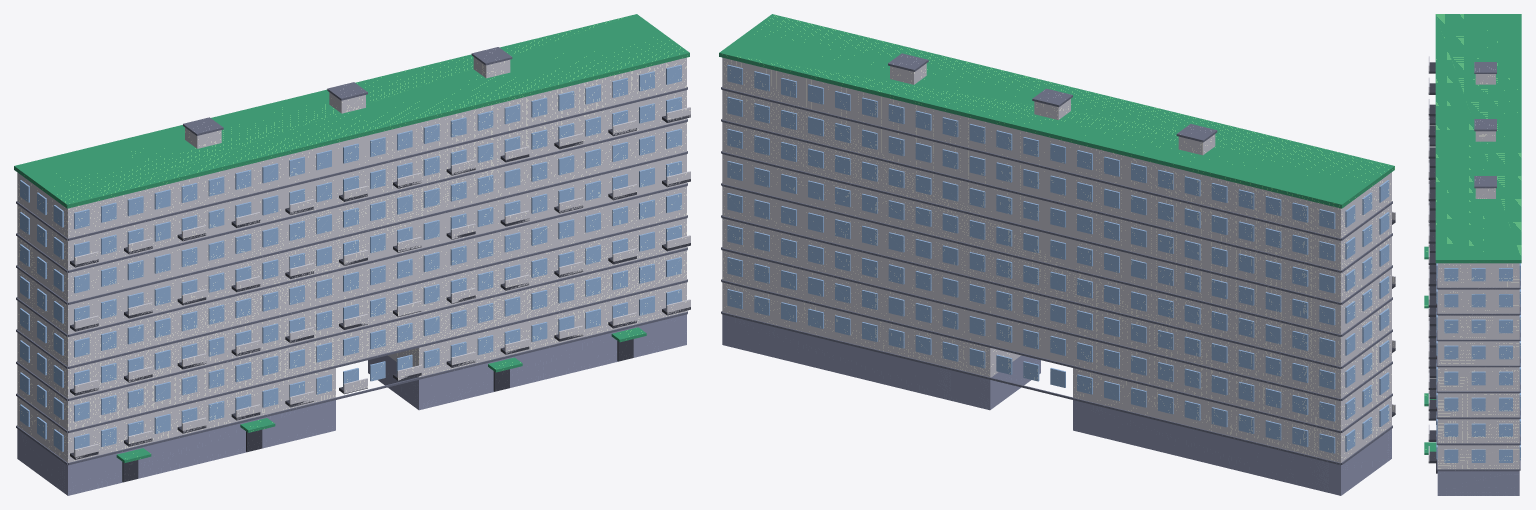
File: panel-5x1-l2.glb
3 views of the same model, side by side, from view 1: azimuth 30°, elevation 25°; view 2: azimuth 150°, elevation 25°; view 3: azimuth 270°, elevation 25° (orthographic). The views are drawn at different scales.
Visible parts, largest first — view 1: panel-5x1-l2; view 2: panel-5x1-l2; view 3: panel-5x1-l2.
Part boxes in pixels (<box>): panel-5x1-l2: <box>14,14,690,495</box>; panel-5x1-l2: <box>719,14,1395,495</box>; panel-5x1-l2: <box>1424,14,1521,495</box>.
Bounding box in the file's own units: 9.76 × 4.61 × 1.63.
1 material, 1 textured.
